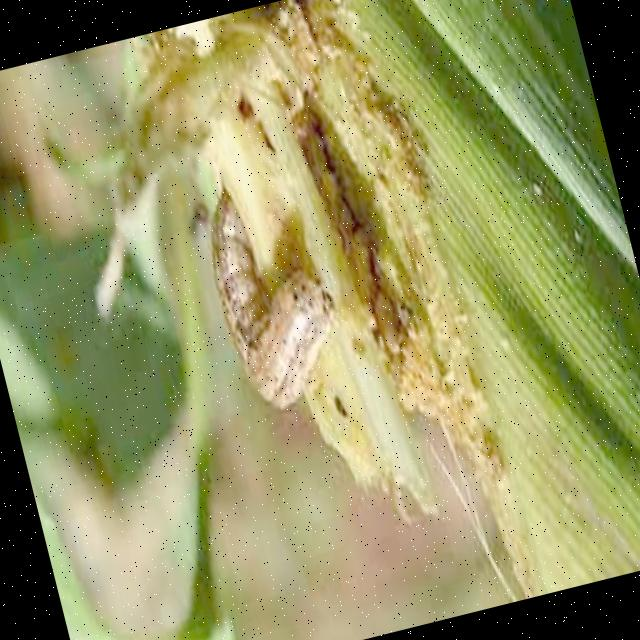worm: (193, 168, 360, 422)
